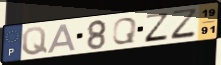8: (86, 17, 108, 51)
A: (46, 23, 78, 55)
Q: (21, 26, 49, 57), (111, 16, 139, 46)
Z: (170, 7, 200, 41), (143, 12, 170, 44)
